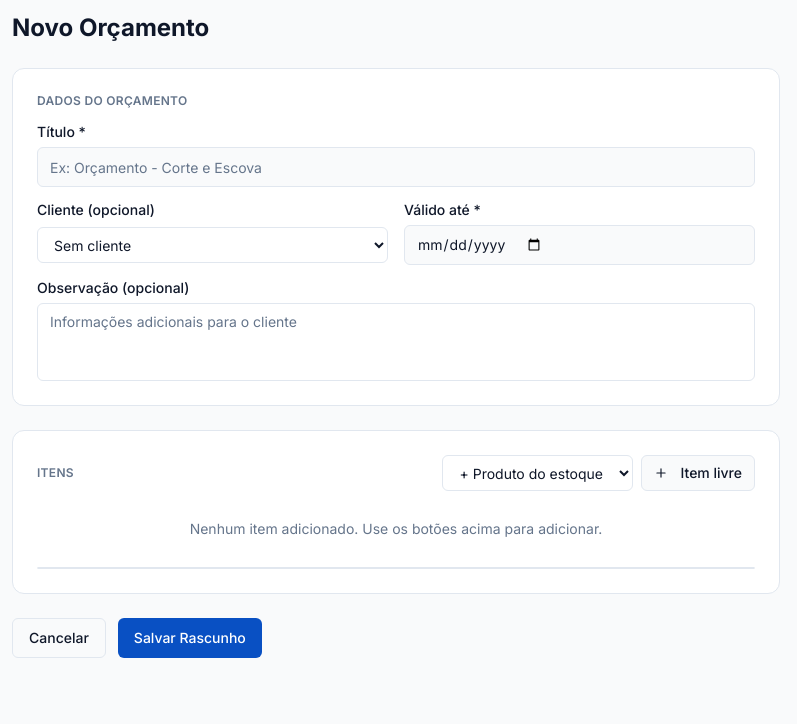
NovoOrcamento form › adiciona item livre ao clicar no botão
This screenshot has width=797, height=724.
Click the button "Item livre" at (698, 473), box x1=642 y1=455 x2=755 y2=491
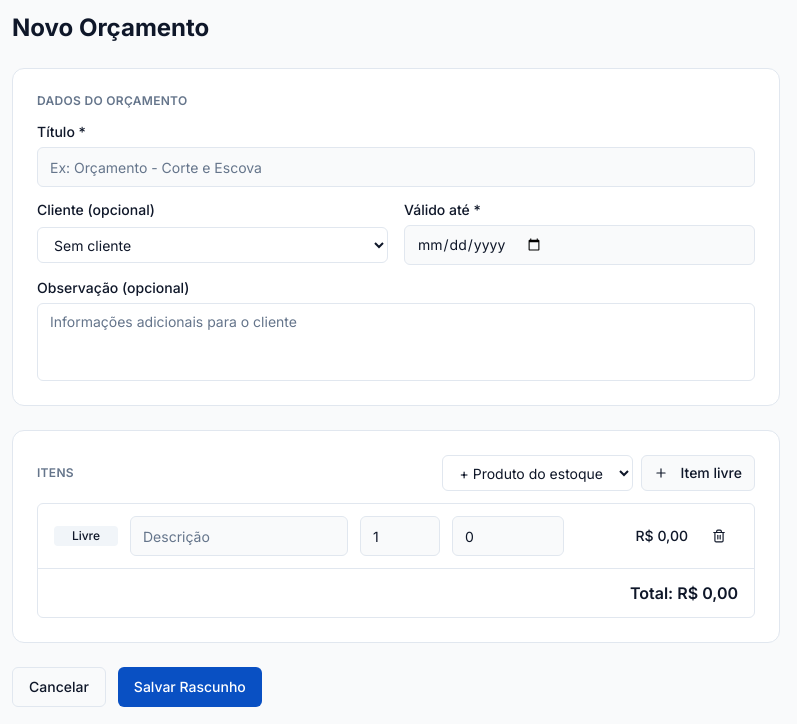
Now the text "Livre" is shown, box x1=54 y1=526 x2=118 y2=546
